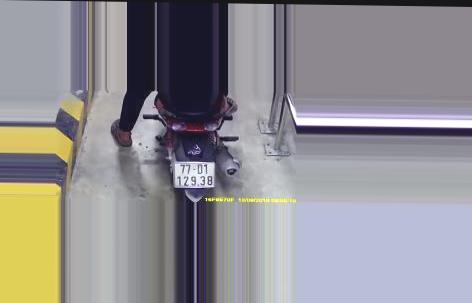License_Plate: (169, 159, 219, 190)
